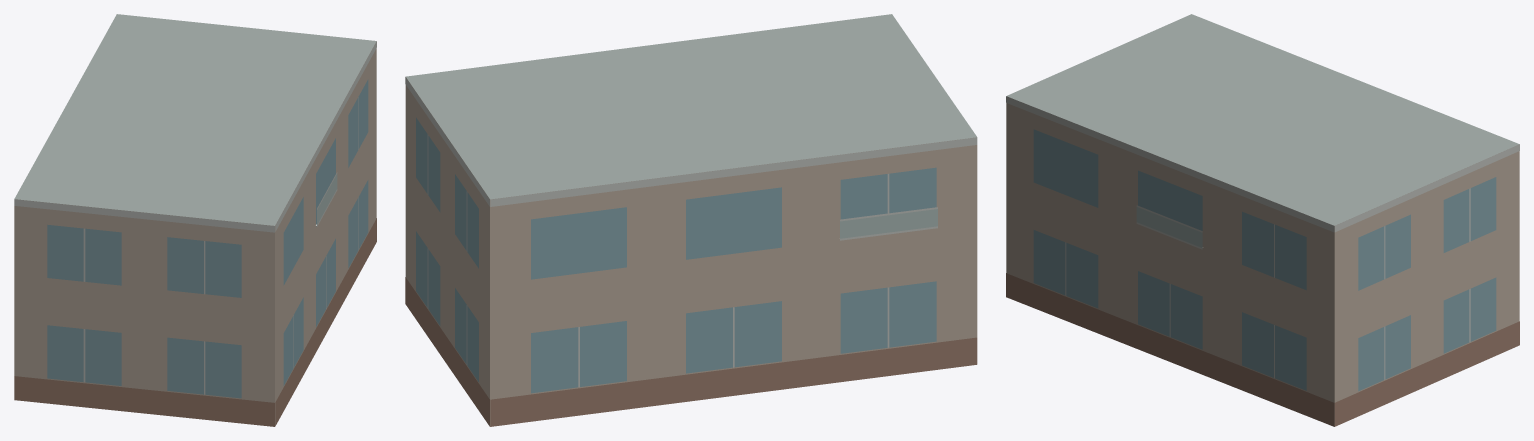
File: survey-upis-32625100.glb
The picture shows the model from 3 angles, left to right: view 1: azimuth 30°, elevation 25°; view 2: azimuth 150°, elevation 25°; view 3: azimuth 270°, elevation 25°; orthographic projection. The views are drawn at different scales.
Parts seen in each view (by area): view 1: survey-upis-32625100.tmp; view 2: survey-upis-32625100.tmp; view 3: survey-upis-32625100.tmp.
Boxes of the visible parts, <box> form: survey-upis-32625100.tmp: <box>14,14,376,426</box>; survey-upis-32625100.tmp: <box>405,14,977,426</box>; survey-upis-32625100.tmp: <box>1006,14,1519,426</box>.
Bounding box in the file's own units: 16.5 × 7.3 × 16.91.
